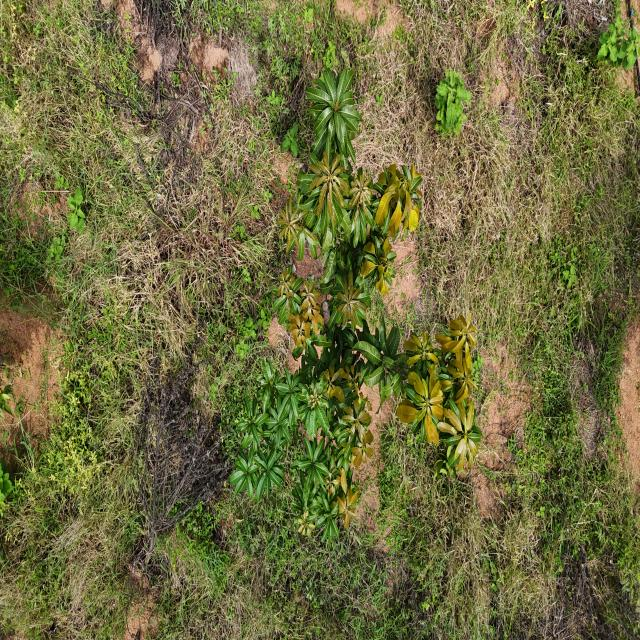mangoTree: (225, 61, 482, 550)
notMangoTree: (595, 9, 639, 84)
